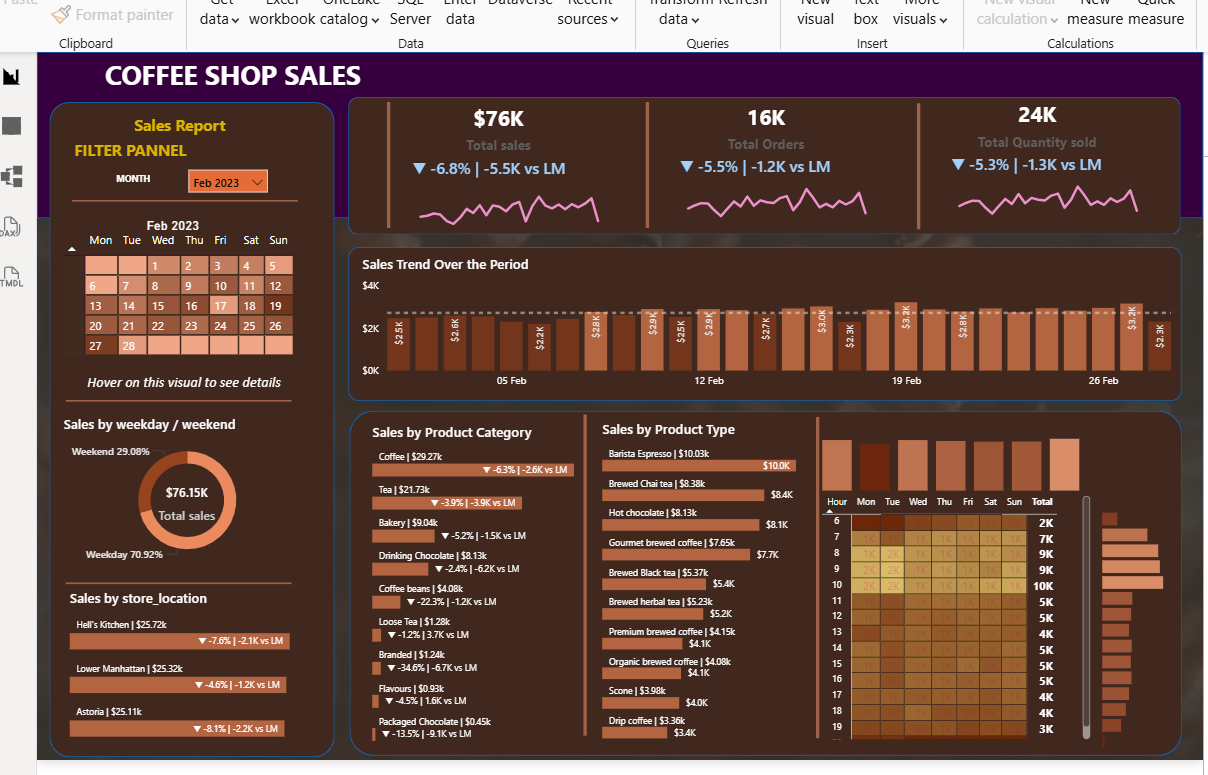

Layout of this report page (visuals, bound fields, positions):
{"tool":"powerbi","page":{"name":"Page 1","canvas":[1400,850],"ordinal":0},"visuals":[{"type":"shape","box":[0,0,1400.3,199.6],"z":0},{"type":"shape","box":[15,60,342.2,786.5],"z":1000},{"type":"shape","box":[373.7,54,999.6,165.1],"z":2000},{"type":"textbox","box":[76.5,0,343.7,63],"z":3000},{"type":"card","title":"Total Sales","fields":{"Values":["Transactions.Total Quantity sold"]},"box":[1077.6,0,243.1,157.6],"z":4000,"group":"g2"},{"type":"card","title":"Total Sales","fields":{"Values":["Transactions.Total Orders"]},"box":[752,3.7,243.1,157.6],"z":4000,"group":"g3"},{"type":"card","title":"Total Sales","fields":{"Values":["Transactions.Total sales"]},"box":[430.7,4.5,243.1,157.6],"z":4000,"group":"g7"},{"type":"slicer","fields":{"Values":["Date Table.Month Year"]},"box":[177.1,136.6,105.1,51],"z":4000},{"type":"group","id":"g1","title":"Group 1","box":[430.7,4.5,258.1,214.6],"z":5000},{"type":"group","id":"g2","title":"Group 3","box":[1077.6,0,258.1,214.6],"z":5002,"group":"g5"},{"type":"group","id":"g3","title":"Group 3","box":[752,3.7,258.1,214.6],"z":5002,"group":"g6"},{"type":"group","id":"g4","title":"Group 1","box":[752,3.7,258.1,214.6],"z":6000},{"type":"lineChart","fields":{"Category":["Date Table.Date.Variation.Date Hierarchy.Year","Date Table.Date.Variation.Date Hierarchy.Quarter","Date Table.Date.Variation.Date Hierarchy.Month","Date Table.Date.Variation.Date Hierarchy.Day"],"Y":["Transactions.Total Orders"]},"box":[1092.6,121.6,243.1,93.1],"z":6000,"group":"g2"},{"type":"lineChart","fields":{"Category":["Date Table.Date.Variation.Date Hierarchy.Year","Date Table.Date.Variation.Date Hierarchy.Quarter","Date Table.Date.Variation.Date Hierarchy.Month","Date Table.Date.Variation.Date Hierarchy.Day"],"Y":["Transactions.Total Orders"]},"box":[767,125.3,243.1,93.1],"z":6000,"group":"g3"},{"type":"lineChart","fields":{"Category":["Date Table.Date.Variation.Date Hierarchy.Year","Date Table.Date.Variation.Date Hierarchy.Quarter","Date Table.Date.Variation.Date Hierarchy.Month","Date Table.Date.Variation.Date Hierarchy.Day"],"Y":["Transactions.Total sales"]},"box":[445.7,126.1,243.1,93.1],"z":6000,"group":"g7"},{"type":"group","id":"g5","title":"Group 2","box":[1077.6,0,258.1,214.6],"z":6001,"group":"g8"},{"type":"group","id":"g6","title":"Group 2","box":[752,3.7,258.1,214.6],"z":6001,"group":"g4"},{"type":"group","id":"g7","title":"Group 2","box":[430.7,4.5,258.1,214.6],"z":6001,"group":"g1"},{"type":"group","id":"g8","title":"Group 1","box":[1077.6,0,258.1,214.6],"z":7000},{"type":"pivotTable","fields":{"Columns":["Date Table.Day Name"],"Values":["Min(Date Table.Day number)"],"Rows":["Date Table.Week number"]},"box":[27.2,208.9,304.3,190.7],"z":8000},{"type":"card","fields":{"Values":["Min(Date Table.Month Year)"]},"box":[80.2,184.7,168,48.4],"z":9000},{"type":"card","fields":{"Values":["Transactions.Foot Note"]},"box":[27.2,370.9,299.7,53],"z":10000},{"type":"shape","box":[34.8,413.3,271,12.1],"z":11000},{"type":"shape","box":[593.4,60.6,280.1,151.4],"z":12000},{"type":"shape","box":[918.9,62.1,280.1,151.4],"z":13000},{"type":"shape","box":[281.6,60.6,280.1,151.4],"z":14000},{"type":"shape","box":[42.4,172.6,271,12.1],"z":15000},{"type":"donutChart","title":"Sales by weekday / weekend","fields":{"Category":["Date Table.weekday / weekend"],"Y":["Transactions.Total sales"]},"box":[27.2,436,307.3,184.7],"z":16000},{"type":"card","fields":{"Values":["Transactions.Total sales"]},"box":[87.8,507.1,183.2,66.6],"z":17000},{"type":"shape","box":[34.8,631.3,271,12.1],"z":18000},{"type":"clusteredBarChart","title":"Sales by store_location","fields":{"Category":["Transactions.store_location"],"Y":["Transactions.Placeholder","Transactions.Total sales"]},"box":[34.8,643.4,301.3,186.2],"z":19000},{"type":"shape","box":[373.9,234.6,1000.7,185],"z":20000},{"type":"columnChart","title":"Sales Trend Over the Period","fields":{"Y":["Transactions.Total sales"],"Category":["Transactions.transaction_date"]},"box":[386,243.7,987,169.6],"z":21000},{"type":"shape","box":[375.2,430.7,999.6,414.2],"z":22000},{"type":"clusteredBarChart","title":"Sales by Product Category","fields":{"Y":["Transactions.Placeholder","Transactions.Total sales"],"Category":["Transactions.product_category"]},"box":[397.7,444.3,276.2,388.7],"z":23000},{"type":"shape","box":[517.8,435.3,280.7,385.7],"z":24000},{"type":"shape","box":[797,438.3,280.7,385.7],"z":25000},{"type":"clusteredBarChart","title":"Sales by Product Type","fields":{"Y":["Transactions.Placeholder","Transactions.Total sales"],"Category":["Transactions.product_type"]},"box":[673.9,441.3,276.2,388.7],"z":26000},{"type":"pivotTable","fields":{"Rows":["Transactions.Hour"],"Columns":["Date Table.Day Name"],"Values":["Transactions.Total sales"]},"box":[938,528.3,331.7,301.7],"z":27000},{"type":"columnChart","title":"Sales by Day | Hour","fields":{"Y":["Transactions.Total sales"],"Category":["Date Table.Day Name"]},"box":[938,430.7,319.7,102.1],"z":29000},{"type":"textbox","box":[90.1,136.6,96.1,30],"z":30000},{"type":"textbox","box":[106.6,70.5,141.1,37.5],"z":31000},{"type":"textbox","box":[34.5,100.6,189.1,36],"z":32000},{"type":"barChart","fields":{"Y":["Transactions.Total sales"],"Category":["Transactions.Hour"]},"box":[1274.2,540.3,85.5,300.2],"z":34001}]}

Visuals, with their boxes on the page's 1400x850 design canvas (x1, y1, x2, y2). These are canvas units, not pixel positions in the 1208x775 screenshot, which may show the page scaled, cropped or inside an application window:
shape: (0, 0, 1400, 200)
shape: (15, 60, 357, 846)
shape: (374, 54, 1373, 219)
textbox: (76, 0, 420, 63)
"Total Sales" card: (1078, 0, 1321, 158)
"Total Sales" card: (752, 4, 995, 161)
"Total Sales" card: (431, 4, 674, 162)
slicer - Date Table.Month Year: (177, 137, 282, 188)
"Group 1" group: (431, 4, 689, 219)
"Group 3" group: (1078, 0, 1336, 215)
"Group 3" group: (752, 4, 1010, 218)
"Group 1" group: (752, 4, 1010, 218)
lineChart - Date Table.Date.Variation.Date Hierarchy.Year x Date Table.Date.Variation.Date Hierarchy.Quarter: (1093, 122, 1336, 215)
lineChart - Date Table.Date.Variation.Date Hierarchy.Year x Date Table.Date.Variation.Date Hierarchy.Quarter: (767, 125, 1010, 218)
lineChart - Date Table.Date.Variation.Date Hierarchy.Year x Date Table.Date.Variation.Date Hierarchy.Quarter: (446, 126, 689, 219)
"Group 2" group: (1078, 0, 1336, 215)
"Group 2" group: (752, 4, 1010, 218)
"Group 2" group: (431, 4, 689, 219)
"Group 1" group: (1078, 0, 1336, 215)
pivotTable - Date Table.Day Name x Min(Date Table.Day number): (27, 209, 332, 400)
card - Min(Date Table.Month Year): (80, 185, 248, 233)
card - Transactions.Foot Note: (27, 371, 327, 424)
shape: (35, 413, 306, 425)
shape: (593, 61, 874, 212)
shape: (919, 62, 1199, 214)
shape: (282, 61, 562, 212)
shape: (42, 173, 313, 185)
"Sales by weekday / weekend" donutChart: (27, 436, 334, 621)
card - Transactions.Total sales: (88, 507, 271, 574)
shape: (35, 631, 306, 643)
"Sales by store_location" clusteredBarChart: (35, 643, 336, 830)
shape: (374, 235, 1375, 420)
"Sales Trend Over the Period" columnChart: (386, 244, 1373, 413)
shape: (375, 431, 1375, 845)
"Sales by Product Category" clusteredBarChart: (398, 444, 674, 833)
shape: (518, 435, 798, 821)
shape: (797, 438, 1078, 824)
"Sales by Product Type" clusteredBarChart: (674, 441, 950, 830)
pivotTable - Transactions.Hour x Date Table.Day Name: (938, 528, 1270, 830)
"Sales by Day | Hour" columnChart: (938, 431, 1258, 533)
textbox: (90, 137, 186, 167)
textbox: (107, 70, 248, 108)
textbox: (34, 101, 224, 137)
barChart - Transactions.Total sales x Transactions.Hour: (1274, 540, 1360, 840)
